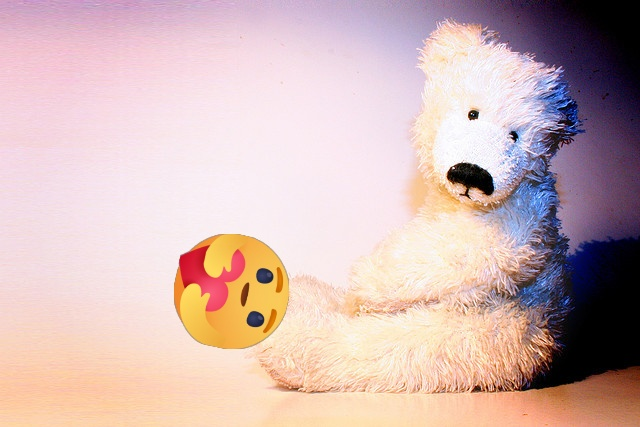care: (174, 234, 289, 349)
